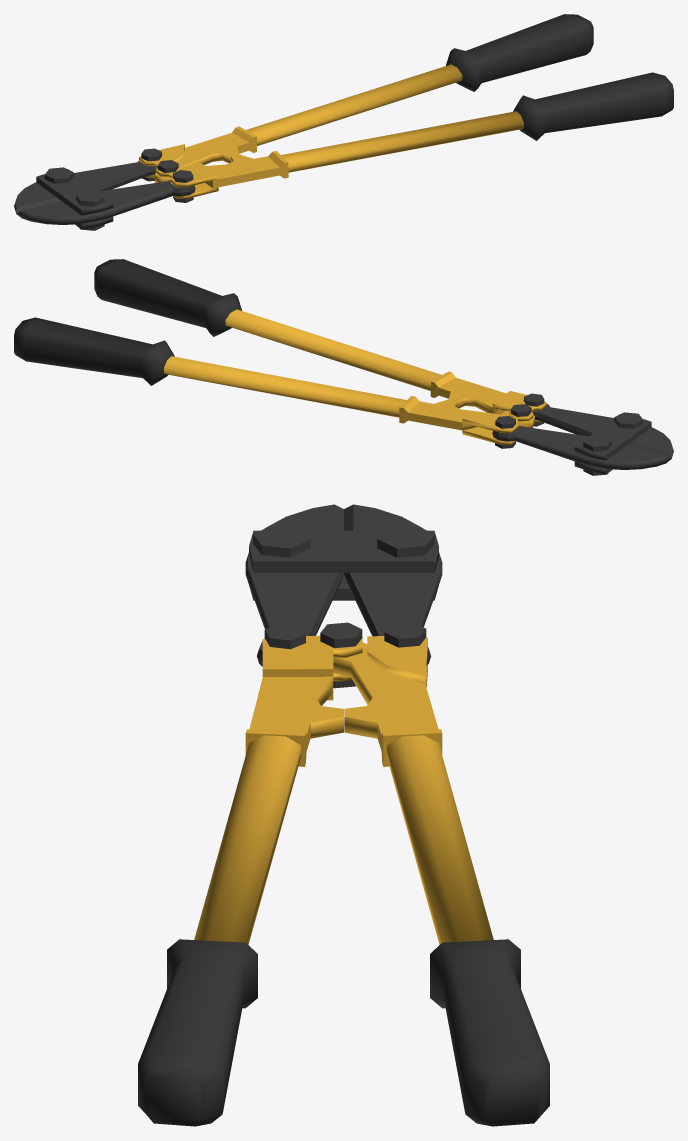
The model's file is sweethome3d-scopia-cutting-pliers-349.glb.
The picture shows the model from 3 angles, top to bottom: view 1: azimuth 30°, elevation 25°; view 2: azimuth 150°, elevation 25°; view 3: azimuth 270°, elevation 25°; orthographic projection. The views are drawn at different scales.
Visible parts, largest first — view 1: Circle; view 2: Circle; view 3: Circle.
Part boxes in pixels (x1,y1,x2,y2): Circle: (14,14,673,230); Circle: (14,259,673,475); Circle: (138,504,549,1126).
Size of the model in its own units: 60 by 3.07 by 17.48.
